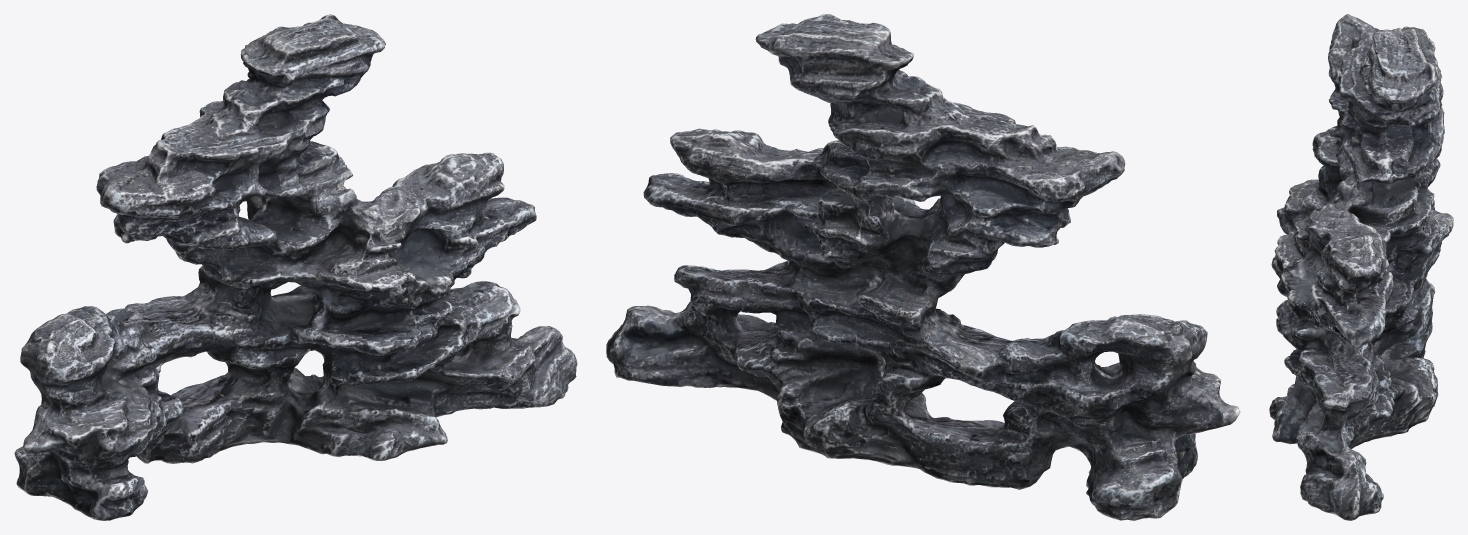
The model's file is rock.glb.
The picture shows the model from 3 angles, left to right: view 1: azimuth 30°, elevation 25°; view 2: azimuth 150°, elevation 25°; view 3: azimuth 270°, elevation 25°; orthographic projection. The views are drawn at different scales.
Visible parts, largest first — view 1: baked_mesh.001; view 2: baked_mesh.001; view 3: baked_mesh.001.
Boxes of the visible parts, left/top/right/bottom form: baked_mesh.001: left=14, top=14, right=577, bottom=520; baked_mesh.001: left=606, top=14, right=1240, bottom=520; baked_mesh.001: left=1269, top=14, right=1453, bottom=520.
Size of the model in its own units: 0.2692 by 0.1754 by 0.0794.
Materials: 1 (1 with a texture image).
